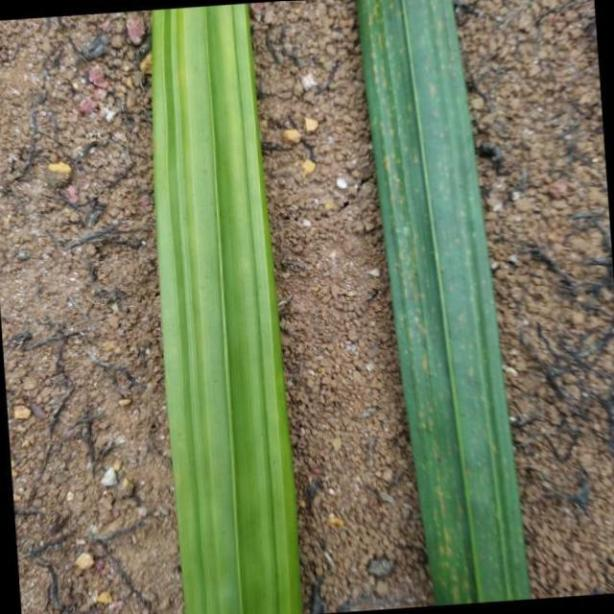nitrogen: (357, 0, 529, 608), (145, 1, 300, 614)
